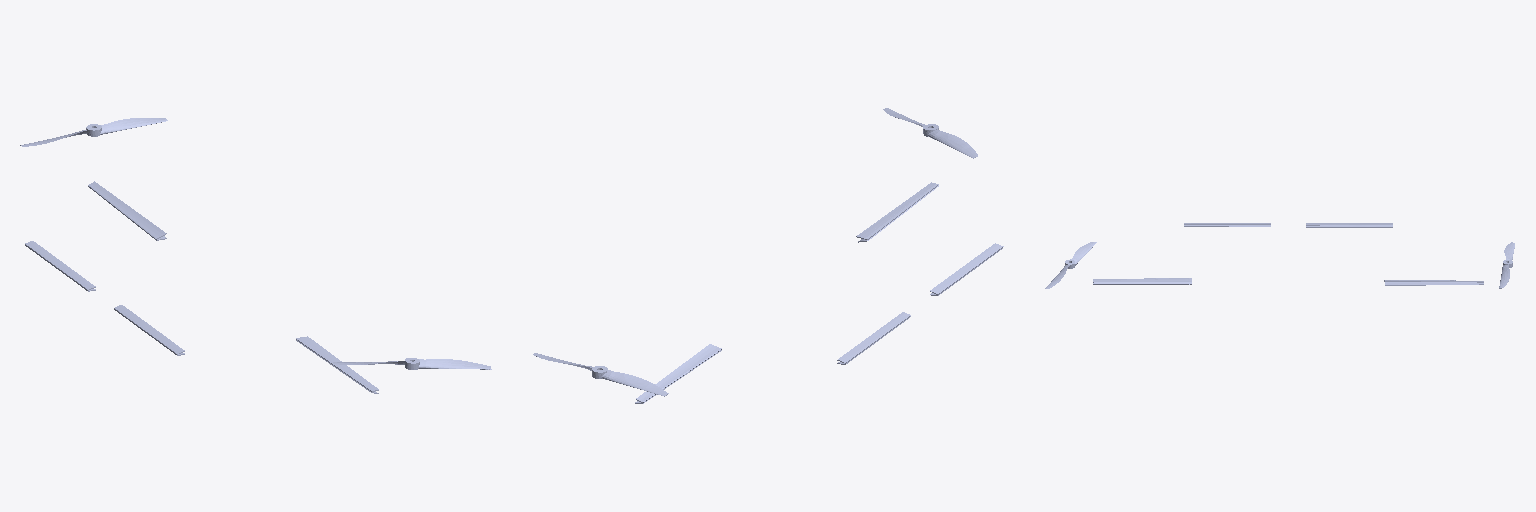
robot.urdf — vant4:
<?xml version="1.0" encoding="UTF-8"?>
<!--
This file is part of the ProVANT simulator project.
Licensed under the terms of the MIT open source license. More details at
https://github.com/Guiraffo/ProVANT-Simulator/blob/master/LICENSE.md
-->
<robot name="vant4">
  <link name="mainbody">
    <inertial>
      <origin xyz="-0.66416 0.00056107 0.085926" rpy="0 0 0" />
      <mass value="8.4589" />
      <inertia ixx="0.12378" ixy="-1.0283E-05" ixz="0.0014863" iyy="0.034571" iyz="-5.2042E-06" izz="0.13577" />
    </inertial>
    <visual>
      <origin xyz="0 0 0" rpy="0 0 0" />
      <geometry>
        <mesh filename="package://vant4/meshes/mainbody.STL" />
      </geometry>
      <material name="">
        <color rgba="0.79216 0.81961 0.93333 1" />
      </material>
    </visual>
    <collision>
      <origin xyz="0 0 0" rpy="0 0 0" />
      <geometry>
        <mesh filename="package://vant4/meshes/mainbody.STL" />
      </geometry>
    </collision>
  </link>
  <link name="RotorR">
    <inertial>
      <origin xyz="0.0043782 -0.0018844 -0.0072816" rpy="0 0 0" />
      <mass value="0.73962" />
      <inertia ixx="0.0013848" ixy="9.436E-06" ixz="5.8634E-08" iyy="0.0014698" iyz="-4.6609E-05" izz="0.00088418" />
    </inertial>
    <visual>
      <origin xyz="0 0 0" rpy="0 0 0" />
      <geometry>
        <mesh filename="package://vant4/meshes/RotorR.STL" />
      </geometry>
      <material name="">
        <color rgba="0.79216 0.81961 0.93333 1" />
      </material>
    </visual>
    <collision>
      <origin xyz="0 0 0" rpy="0 0 0" />
      <geometry>
        <mesh filename="package://vant4/meshes/RotorR.STL" />
      </geometry>
    </collision>
  </link>
  <joint name="rotR" type="revolute">
    <origin xyz="-0.6298 -1.0181 0.16308" rpy="0 0 0" />
    <parent link="mainbody" />
    <child link="RotorR" />
    <axis xyz="0 1 0" />
    <limit lower="-1.57" upper="1.57" effort="0" velocity="0" />
  </joint>
  <link name="HelR">
    <inertial>
      <origin xyz="-0.00014256 0.0018676 -0.01288" rpy="0 0 0" />
      <mass value="0.12823" />
      <inertia ixx="0.00028989" ixy="0.00055012" ixz="7.8549E-05" iyy="0.0011639" iyz="-3.7319E-05" izz="0.0014358" />
    </inertial>
    <visual>
      <origin xyz="0 0 0" rpy="0 0 0" />
      <geometry>
        <mesh filename="package://vant4/meshes/HelR.STL" />
      </geometry>
      <material name="">
        <color rgba="0.79216 0.81961 0.93333 1" />
      </material>
    </visual>
    <collision>
      <origin xyz="0 0 0" rpy="0 0 0" />
      <geometry>
        <mesh filename="package://vant4/meshes/HelR.STL" />
      </geometry>
    </collision>
  </link>
  <joint name="Hr" type="revolute">
    <origin xyz="0.0043832 -0.00027566 0.11308" rpy="0 0 0" />
    <parent link="RotorR" />
    <child link="HelR" />
    <axis xyz="0 0 1" />
    <limit lower="-1.57" upper="1.57" effort="0" velocity="0" />
  </joint>
  <link name="RotorL">
    <inertial>
      <origin xyz="-0.0043782 0.0018844 -0.0072816" rpy="0 0 0" />
      <mass value="0.73962" />
      <inertia ixx="0.0013848" ixy="9.4367E-06" ixz="-5.9349E-08" iyy="0.0014698" iyz="4.661E-05" izz="0.00088418" />
    </inertial>
    <visual>
      <origin xyz="0 0 0" rpy="0 0 0" />
      <geometry>
        <mesh filename="package://vant4/meshes/RotorL.STL" />
      </geometry>
      <material name="">
        <color rgba="0.79216 0.81961 0.93333 1" />
      </material>
    </visual>
    <collision>
      <origin xyz="0 0 0" rpy="0 0 0" />
      <geometry>
        <mesh filename="package://vant4/meshes/RotorL.STL" />
      </geometry>
    </collision>
  </link>
  <joint name="rotL" type="revolute">
    <origin xyz="-0.62106 1.0248 0.16369" rpy="0 0 0" />
    <parent link="mainbody" />
    <child link="RotorL" />
    <axis xyz="0 1 0" />
    <limit lower="-1.57" upper="1.57" effort="0" velocity="0" />
  </joint>
  <link name="HelL">
    <inertial>
      <origin xyz="-5.0975E-05 -0.0020058 -0.01286" rpy="0 0 0" />
      <mass value="0.12823" />
      <inertia ixx="3.2838E-05" ixy="0.00013904" ixz="1.5083E-08" iyy="0.0014156" iyz="-1.9717E-07" izz="0.0014411" />
    </inertial>
    <visual>
      <origin xyz="0 0 0" rpy="0 0 0" />
      <geometry>
        <mesh filename="package://vant4/meshes/HelL.STL" />
      </geometry>
      <material name="">
        <color rgba="0.79216 0.81961 0.93333 1" />
      </material>
    </visual>
    <collision>
      <origin xyz="0 0 0" rpy="0 0 0" />
      <geometry>
        <mesh filename="package://vant4/meshes/HelL.STL" />
      </geometry>
    </collision>
  </link>
  <joint name="Hl" type="revolute">
    <origin xyz="-0.0043832 0.00027566 0.11308" rpy="0 0 0" />
    <parent link="RotorL" />
    <child link="HelL" />
    <axis xyz="0 0 1" />
    <limit lower="-1.57" upper="1.57" effort="0" velocity="0" />
  </joint>
  <link name="AileronR">
    <inertial>
      <origin xyz="-0.016469 -0.018278 0.0037403" rpy="0 0 0" />
      <mass value="0.099417" />
      <inertia ixx="0.0017447" ixy="2.7404E-05" ixz="1.8133E-06" iyy="1.0486E-05" iyz="-6.4746E-06" izz="0.0017537" />
    </inertial>
    <visual>
      <origin xyz="0 0 0" rpy="0 0 0" />
      <geometry>
        <mesh filename="package://vant4/meshes/AileronR.STL" />
      </geometry>
      <material name="">
        <color rgba="0.79216 0.81961 0.93333 1" />
      </material>
    </visual>
    <collision>
      <origin xyz="0 0 0" rpy="0 0 0" />
      <geometry>
        <mesh filename="package://vant4/meshes/AileronR.STL" />
      </geometry>
    </collision>
  </link>
  <joint name="Ar" type="revolute">
    <origin xyz="-0.68926 -0.68209 0.13708" rpy="0 0 0" />
    <parent link="mainbody" />
    <child link="AileronR" />
    <axis xyz="0 1 0" />
    <limit lower="-1.57" upper="1.57" effort="0" velocity="0" />
  </joint>
  <link name="AileronL">
    <inertial>
      <origin xyz="-0.016824 0.018274 -0.0014503" rpy="0 0 0" />
      <mass value="0.099406" />
      <inertia ixx="0.0017443" ixy="-2.8036E-05" ixz="-5.2961E-07" iyy="1.0484E-05" iyz="-2.6598E-06" izz="0.0017539" />
    </inertial>
    <visual>
      <origin xyz="0 0 0" rpy="0 0 0" />
      <geometry>
        <mesh filename="package://vant4/meshes/AileronL.STL" />
      </geometry>
      <material name="">
        <color rgba="0.79216 0.81961 0.93333 1" />
      </material>
    </visual>
    <collision>
      <origin xyz="0 0 0" rpy="0 0 0" />
      <geometry>
        <mesh filename="package://vant4/meshes/AileronL.STL" />
      </geometry>
    </collision>
  </link>
  <joint name="Al" type="revolute">
    <origin xyz="-0.68676 0.68294 0.13709" rpy="0 0 0" />
    <parent link="mainbody" />
    <child link="AileronL" />
    <axis xyz="0 1 0" />
    <limit lower="-1.57" upper="1.57" effort="0" velocity="0" />
  </joint>
  <link name="RudderR">
    <inertial>
      <origin xyz="-0.01475 -0.00018368 -0.00051242" rpy="0 0 0" />
      <mass value="0.07609" />
      <inertia ixx="0.0010372" ixy="6.0471E-08" ixz="-1.688E-07" iyy="5.6251E-06" iyz="1.3794E-07" izz="0.0010424" />
    </inertial>
    <visual>
      <origin xyz="0 0 0" rpy="0 0 0" />
      <geometry>
        <mesh filename="package://vant4/meshes/RudderR.STL" />
      </geometry>
      <material name="">
        <color rgba="0.79216 0.81961 0.93333 1" />
      </material>
    </visual>
    <collision>
      <origin xyz="0 0 0" rpy="0 0 0" />
      <geometry>
        <mesh filename="package://vant4/meshes/RudderR.STL" />
      </geometry>
    </collision>
  </link>
  <joint name="Rr" type="revolute">
    <origin xyz="-1.1609 -0.28425 0.2141" rpy="0 0 0" />
    <parent link="mainbody" />
    <child link="RudderR" />
    <axis xyz="0 1 0" />
    <limit lower="-1.57" upper="1.57" effort="0" velocity="0" />
  </joint>
  <link name="RudderL">
    <inertial>
      <origin xyz="-0.014758 0.00018369 -0.00016734" rpy="0 0 0" />
      <mass value="0.07609" />
      <inertia ixx="0.0010372" ixy="6.367E-08" ixz="-4.6017E-08" iyy="5.6251E-06" iyz="1.3644E-07" izz="0.0010424" />
    </inertial>
    <visual>
      <origin xyz="0 0 0" rpy="0 0 0" />
      <geometry>
        <mesh filename="package://vant4/meshes/RudderL.STL" />
      </geometry>
      <material name="">
        <color rgba="0.79216 0.81961 0.93333 1" />
      </material>
    </visual>
    <collision>
      <origin xyz="0 0 0" rpy="0 0 0" />
      <geometry>
        <mesh filename="package://vant4/meshes/RudderL.STL" />
      </geometry>
    </collision>
  </link>
  <joint name="Rl" type="revolute">
    <origin xyz="-1.1615 0.28643 0.21038" rpy="0 0 0" />
    <parent link="mainbody" />
    <child link="RudderL" />
    <axis xyz="0 1 0" />
    <limit lower="-1.57" upper="1.57" effort="0" velocity="0" />
  </joint>
</robot>

--- Render facts (derived) ---
The picture shows the robot from 3 angles, left to right: view 1: azimuth 30°, elevation 25°; view 2: azimuth 150°, elevation 25°; view 3: azimuth 270°, elevation 25°; orthographic projection.
Model vant4 with 9 links and 8 joints (8 revolute), rooted at mainbody, posed every joint at zero.
Links seen in each view (by area): view 1: HelR, HelL, AileronL, AileronR, RudderR, RudderL; view 2: HelL, AileronL, AileronR, HelR, RudderR, RudderL; view 3: AileronR.
Boxes of the visible links, x1,y1,x2,y2 form: HelR: (333,358,491,369); HelL: (20,118,167,146); AileronL: (88,181,166,240); AileronR: (296,336,378,393); RudderR: (114,305,184,355); RudderL: (25,241,95,291); HelL: (533,353,668,396); AileronL: (635,344,721,403); AileronR: (856,182,938,242); HelR: (883,108,977,158); RudderR: (930,243,1003,295); RudderL: (837,312,910,364); AileronR: (1093,278,1191,284).
Bounding box of the posed robot: 0.8191 × 2.2 × 0.1546 m (x, y, z).
6 mesh visuals loaded from 9 distinct referenced files (6 binary STL); not drawn: 3 (reference not matched to a file when rendering).
